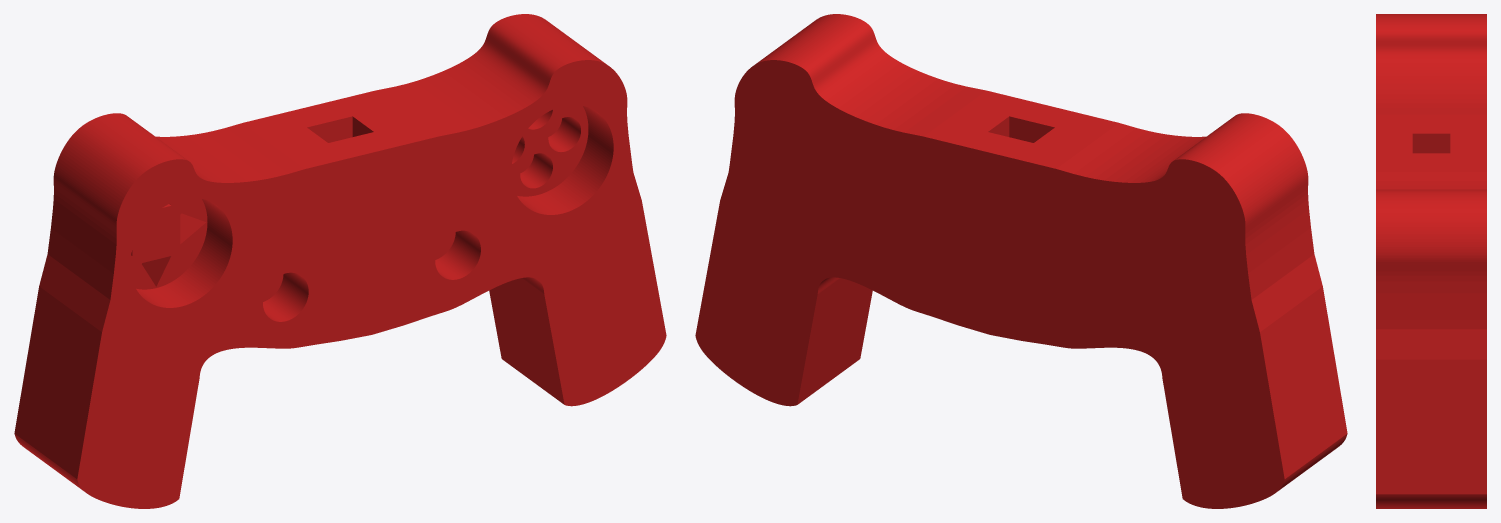
File: 3_colored.obj
3 renders of one model, left to right at view 1: azimuth 30°, elevation 25°; view 2: azimuth 150°, elevation 25°; view 3: azimuth 270°, elevation 25°, orthographic. The views are drawn at different scales.
Size of the model in its own units: 0.1352 by 0.0756 by 0.025.
